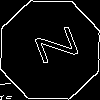Z: (25, 25, 79, 71)
